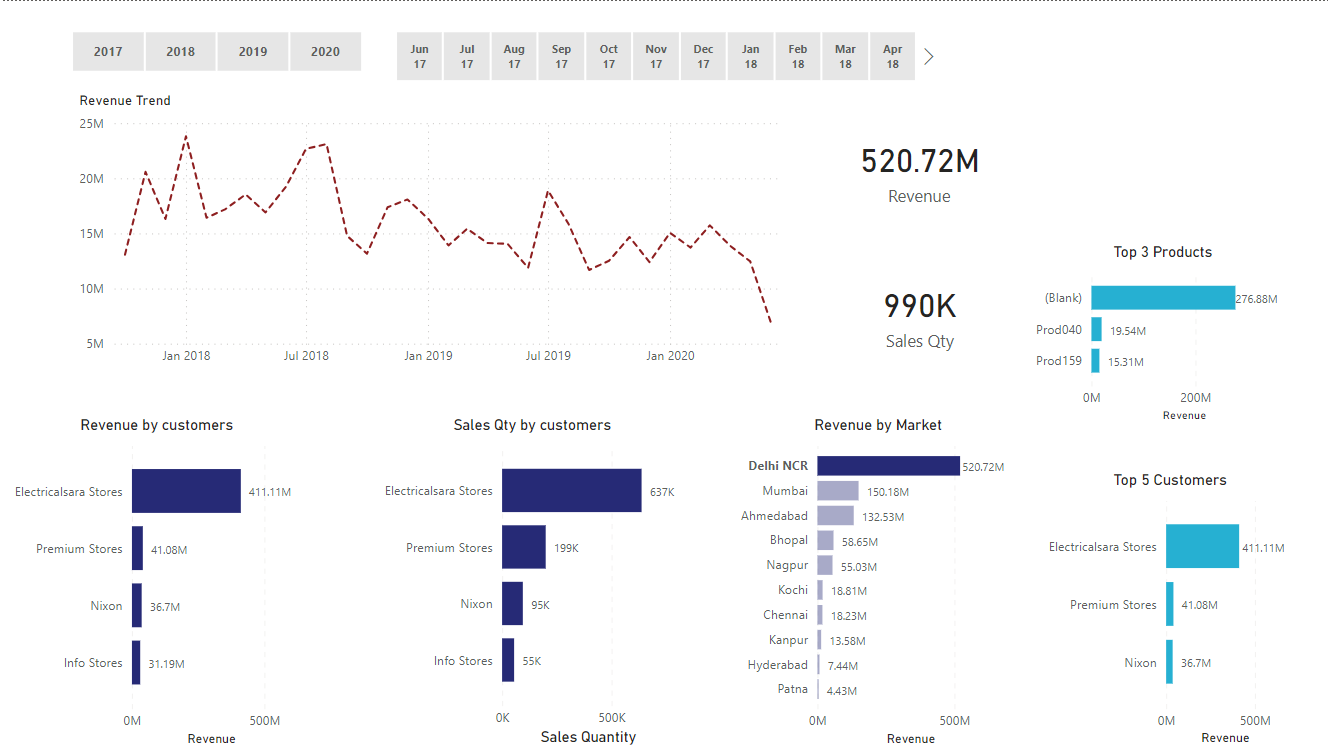

What the dashboard file says about the page in this screenshot:
{"tool":"powerbi","page":{"name":"Page 1","canvas":[1280,720],"ordinal":0},"visuals":[{"type":"card","fields":{"Values":["BaseMeasures.Revenue"]},"box":[802.8,100.1,162.3,124.4],"z":0},{"type":"card","fields":{"Values":["BaseMeasures.Sales Qty"]},"box":[815.4,241,138,118.6],"z":1000},{"type":"clusteredBarChart","title":"Revenue by customers","fields":{"Y":["BaseMeasures.Revenue"],"Category":["public customers.customer_name"]},"box":[0,399.4,301.3,320.6],"z":2000},{"type":"clusteredBarChart","title":"Sales Qty by customers","fields":{"Y":["BaseMeasures.Sales Qty"],"Category":["public customers.customer_name"]},"box":[355.7,399.5,312,320.7],"z":3000},{"type":"slicer","fields":{"Values":["public date.year"]},"box":[44.7,23.3,326.6,50.5],"z":4000},{"type":"slicer","title":"Month","fields":{"Values":["public date.cy_date"]},"box":[355.7,23.3,548.2,60.3],"z":5000},{"type":"clusteredBarChart","title":"Revenue by Market","fields":{"Y":["BaseMeasures.Revenue"],"Category":["public markets.markets_name"]},"box":[701.7,399.5,284.8,320.7],"z":6000},{"type":"clusteredBarChart","title":"Top 5 Customers","fields":{"Y":["BaseMeasures.Revenue"],"Category":["public customers.customer_name"]},"box":[976.8,451.9,261.4,268.2],"z":6001},{"type":"clusteredBarChart","title":"Top 3 Products","fields":{"Y":["BaseMeasures.Revenue"],"Category":["public products.product_code"]},"box":[986.5,232.3,263.4,175.9],"z":6002},{"type":"lineChart","title":"Revenue Trend","fields":{"Y":["BaseMeasures.Revenue"],"Category":["public date.cy_date.Variation.Date Hierarchy.Year","public date.cy_date.Variation.Date Hierarchy.Quarter","public date.cy_date.Variation.Date Hierarchy.Month","public date.cy_date.Variation.Date Hierarchy.Day"]},"box":[70.9,88.4,698.8,271.2],"z":6003}]}

Visuals, with their boxes in screenshot pixels (x1, y1, x2, y2), scaled from the page's 1280x720 canvas onto the 1328x746 screenshot:
card - BaseMeasures.Revenue: l=833, t=104, r=1001, b=233
card - BaseMeasures.Sales Qty: l=846, t=250, r=989, b=373
"Revenue by customers" clusteredBarChart: l=0, t=414, r=313, b=745
"Sales Qty by customers" clusteredBarChart: l=369, t=414, r=693, b=745
slicer - public date.year: l=46, t=24, r=385, b=76
"Month" slicer: l=369, t=24, r=938, b=87
"Revenue by Market" clusteredBarChart: l=728, t=414, r=1023, b=745
"Top 5 Customers" clusteredBarChart: l=1013, t=468, r=1285, b=745
"Top 3 Products" clusteredBarChart: l=1023, t=241, r=1297, b=423
"Revenue Trend" lineChart: l=74, t=92, r=799, b=373
